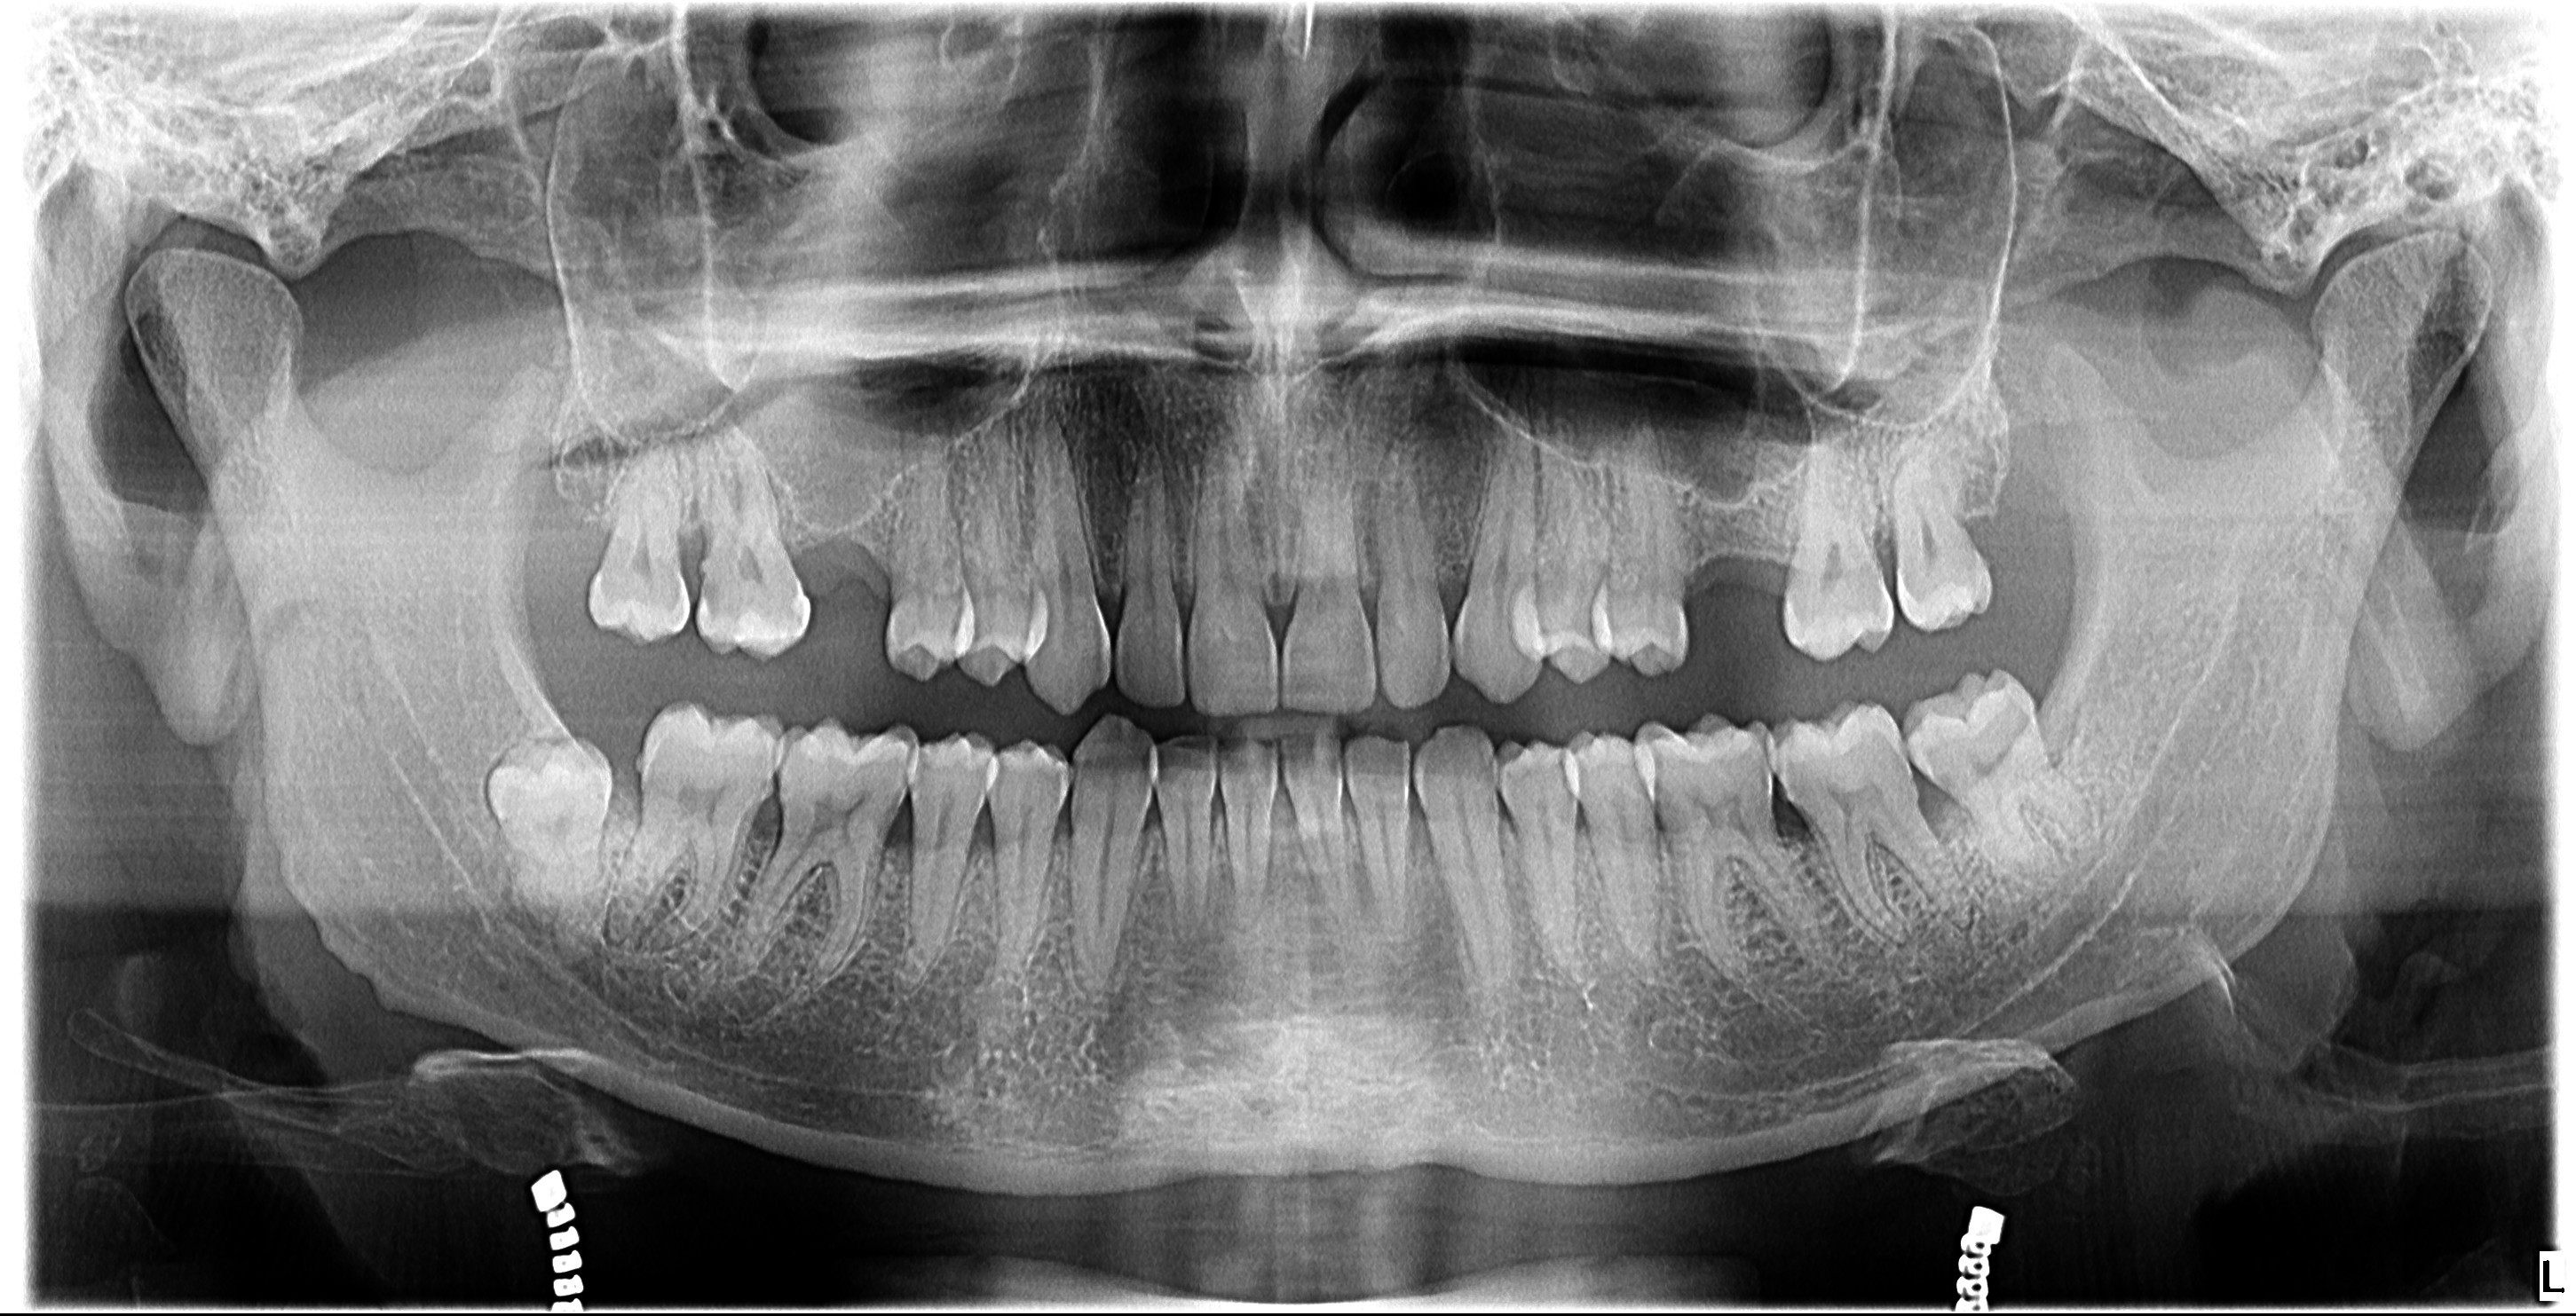IMT: (136, 267, 770, 1172)
